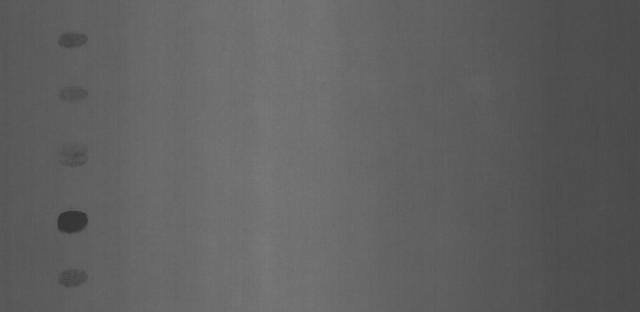oil_spot: (54, 137, 93, 168), (54, 84, 93, 110), (52, 209, 89, 236), (50, 30, 91, 53), (53, 266, 90, 291)
